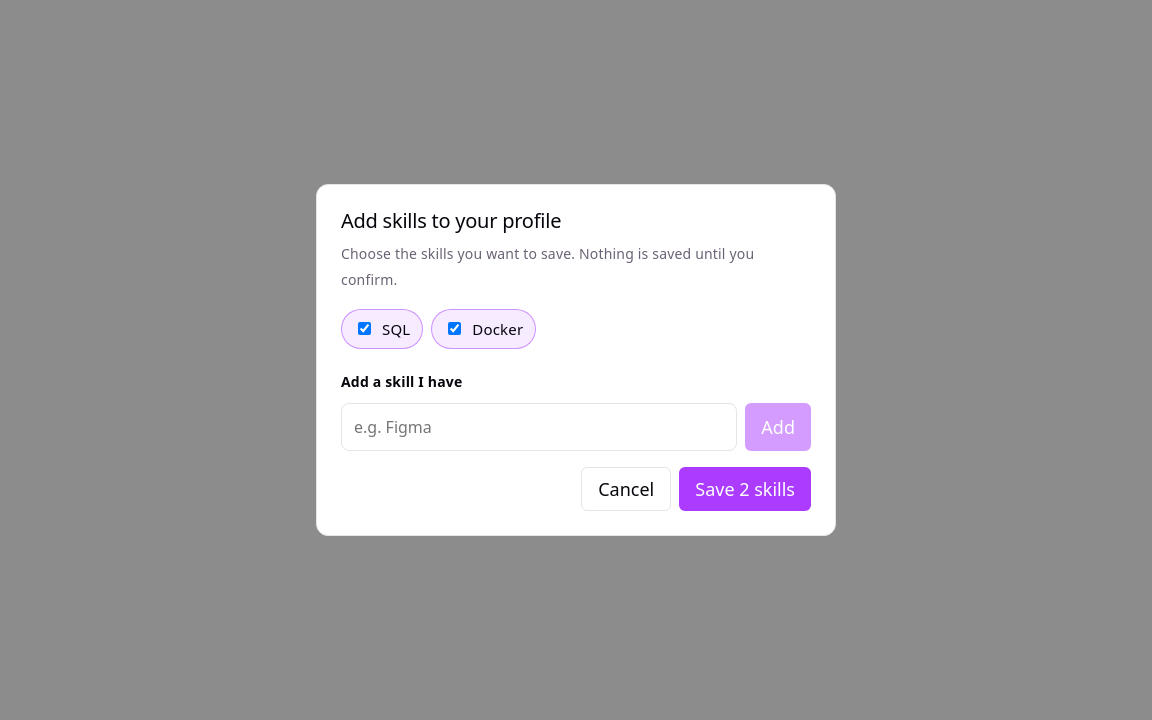
Scenario: AddToProfileModal › keeps the dialog open and shows the message if saving fails
Step 1. Click the button "Save 2 skills" → [745, 489], box [679,467,811,511]
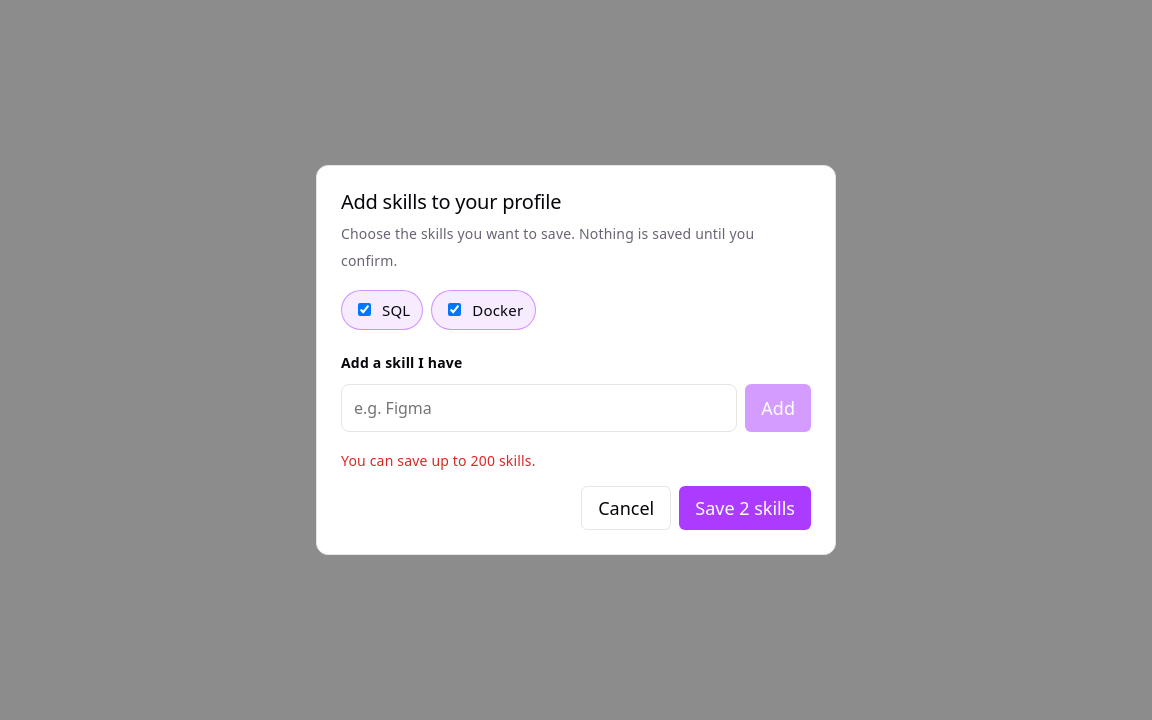
Check: the dialog is shown, box [316,165,836,555]
Check: the message reads "You can save up to 200 skills.", box [341,451,536,470]
